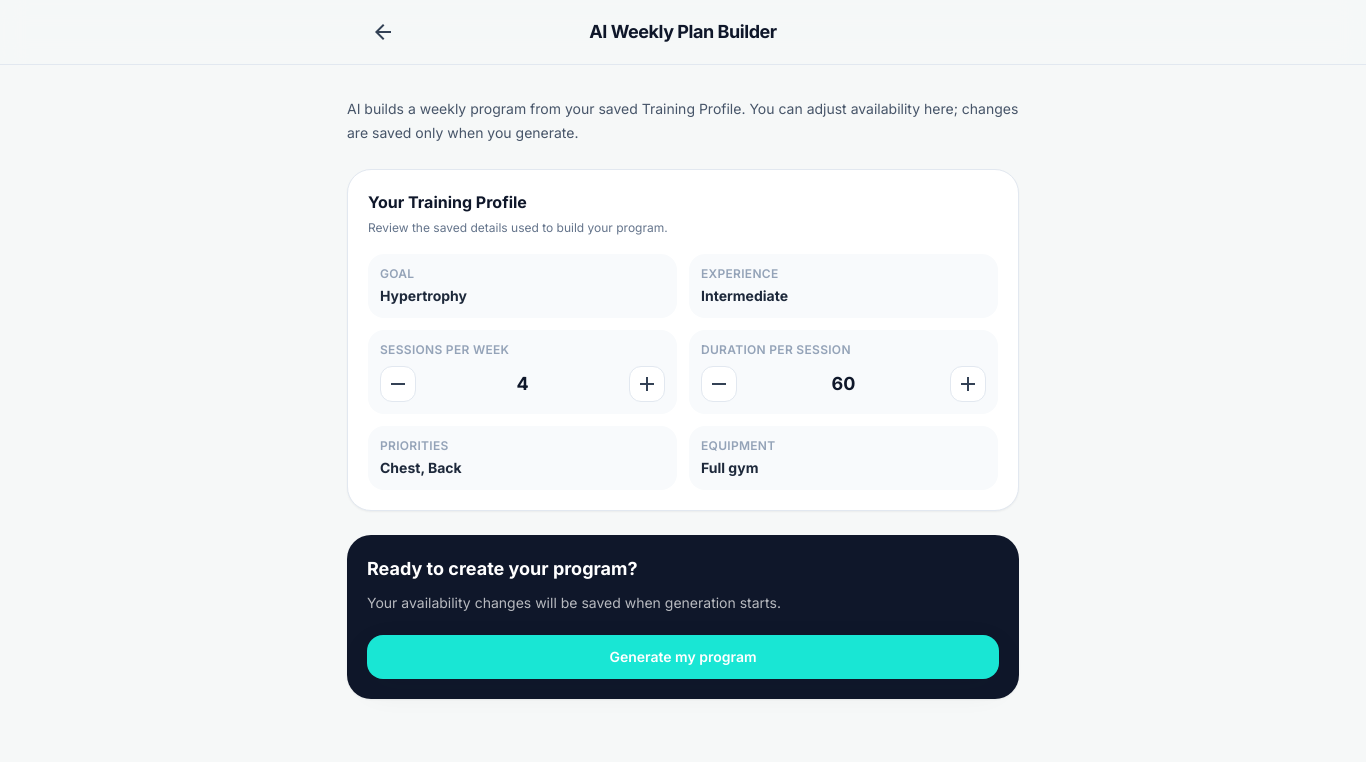
Scenario: unchanged availability skips PATCH and starts generation
This screenshot has width=1366, height=762.
Expected: the text "Hypertrophy" is shown, [380,287,467,304]
Click the button "Generate my program".
click(683, 657)  # box [367,635,999,679]
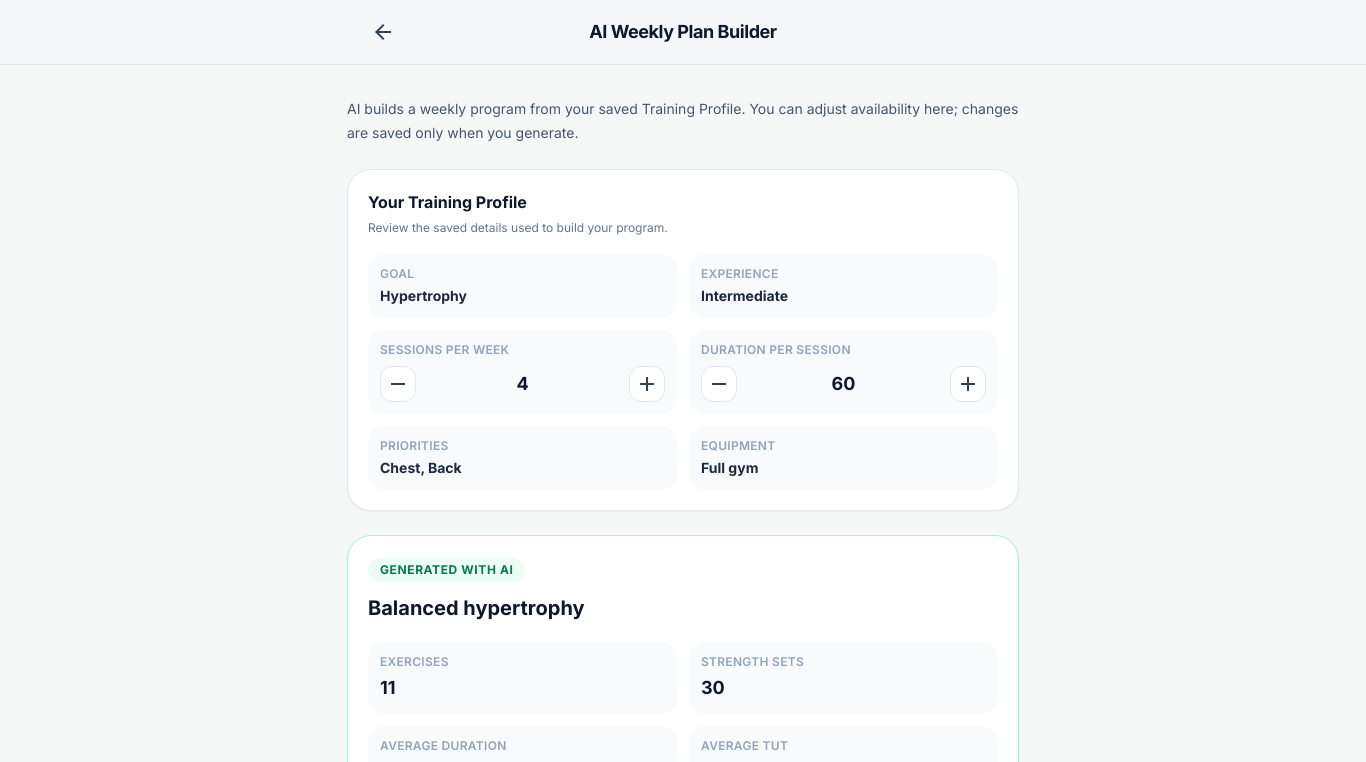
Expected: the heading "Balanced hypertrophy" is shown, [368,596,585,620]
